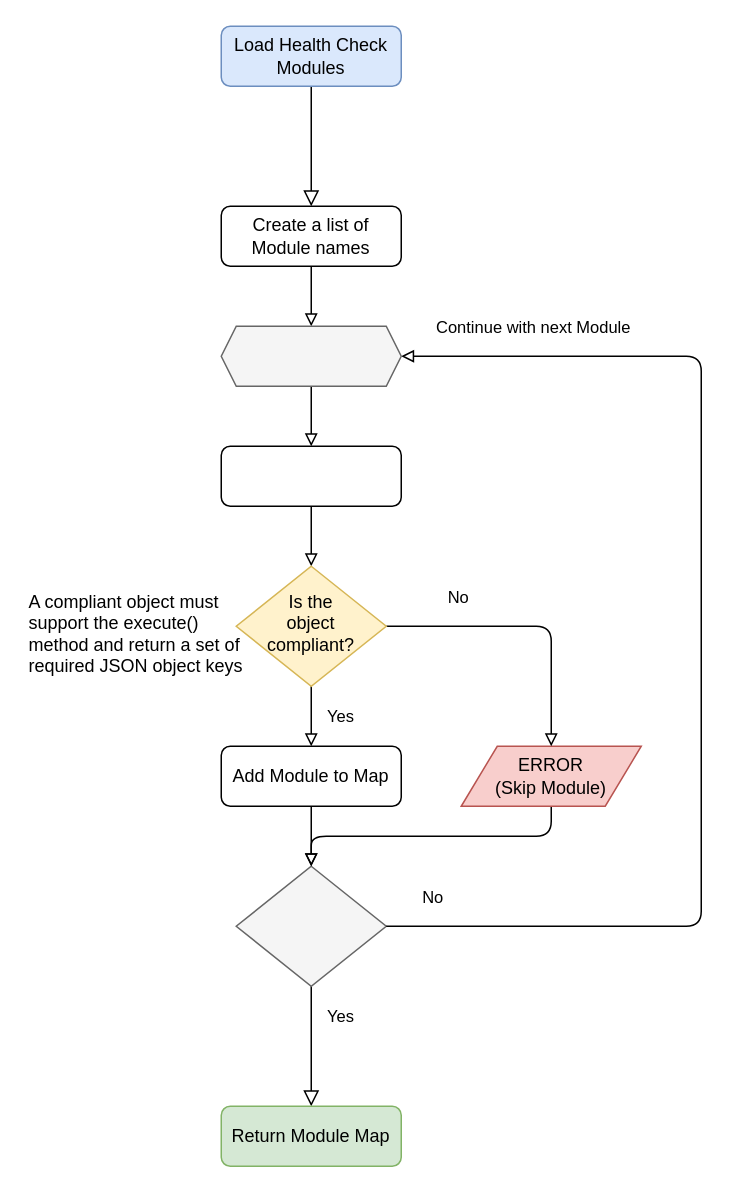
This 740x1193 diagram has some shape labels left out. Each missing label, with the centre of its shape:
Create a Module instance: (x=310, y=475)
Iterate over Module list: (x=310, y=355)
Last item in Module list ?: (x=310, y=925)
